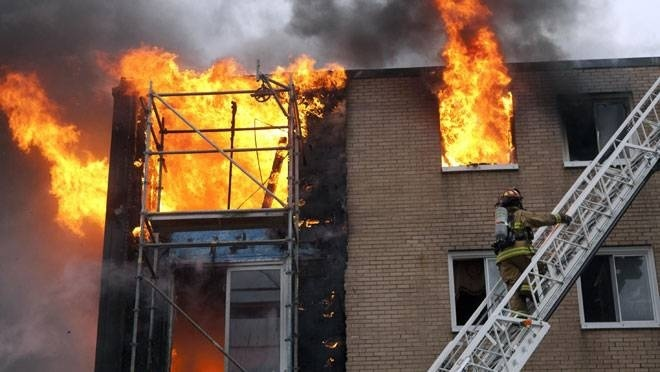fire: (3, 36, 347, 235), (434, 0, 515, 166)
